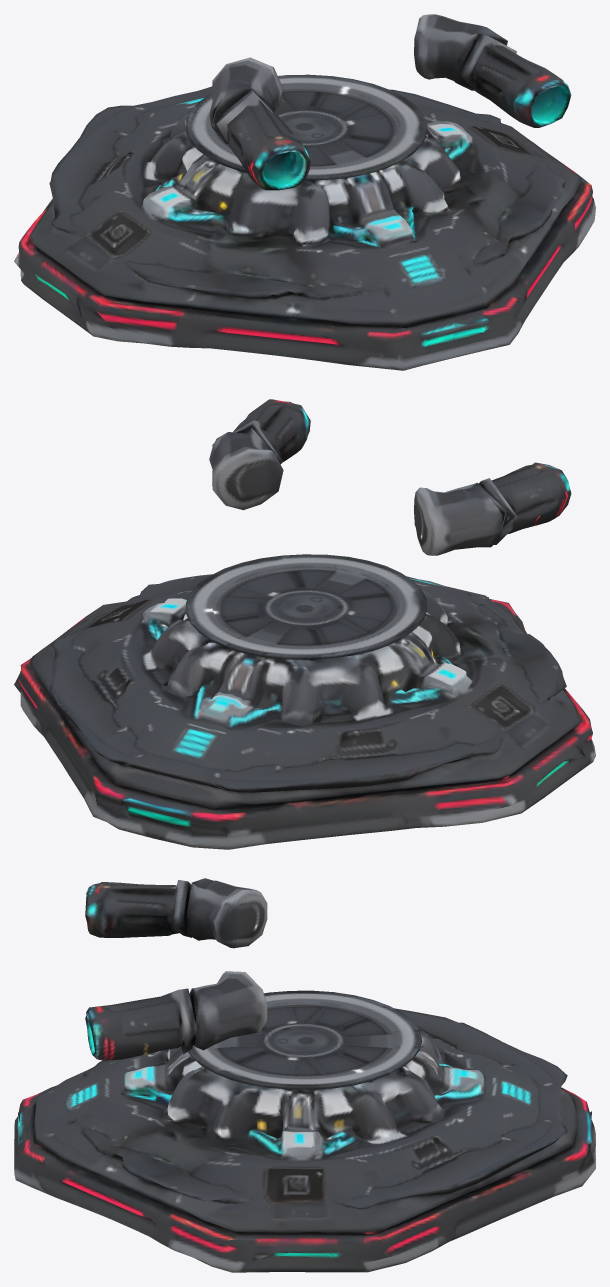
File: base_basic_shaded.fbx
3 views of the same model, one above another, from view 1: azimuth 30°, elevation 25°; view 2: azimuth 150°, elevation 25°; view 3: azimuth 270°, elevation 25° (orthographic). The views are drawn at different scales.
Visible parts, largest first — view 1: root.0, root.1, root.4, root.3, root.5, root.7, root.6; view 2: root.0, root.1, root.4, root.6, root.7, root.5, root.3; view 3: root.0, root.1, root.4, root.3, root.5, root.6, root.7.
Part boxes in pixels (x1,y1,x2,y2): root.0: [29, 97, 581, 327]; root.1: [14, 86, 595, 370]; root.4: [186, 74, 426, 180]; root.3: [459, 33, 571, 127]; root.5: [214, 90, 310, 190]; root.7: [414, 14, 507, 90]; root.6: [209, 57, 283, 144]; root.0: [29, 576, 581, 808]; root.1: [14, 574, 595, 849]; root.4: [186, 554, 426, 659]; root.6: [414, 482, 507, 555]; root.7: [209, 427, 283, 510]; root.5: [479, 462, 571, 544]; root.3: [233, 399, 310, 464]; root.0: [34, 1029, 577, 1234]; root.1: [14, 1008, 595, 1272]; root.4: [188, 990, 421, 1089]; root.3: [85, 988, 196, 1060]; root.5: [85, 880, 191, 937]; root.6: [187, 878, 267, 948]; root.7: [189, 971, 267, 1050].
Size of the model in its own units: 176 by 78.02 by 183.
